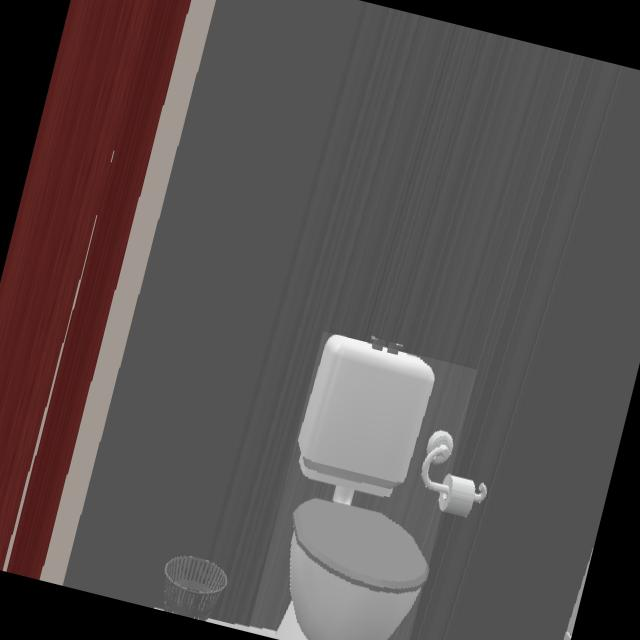toilet: (289, 335, 434, 640)
